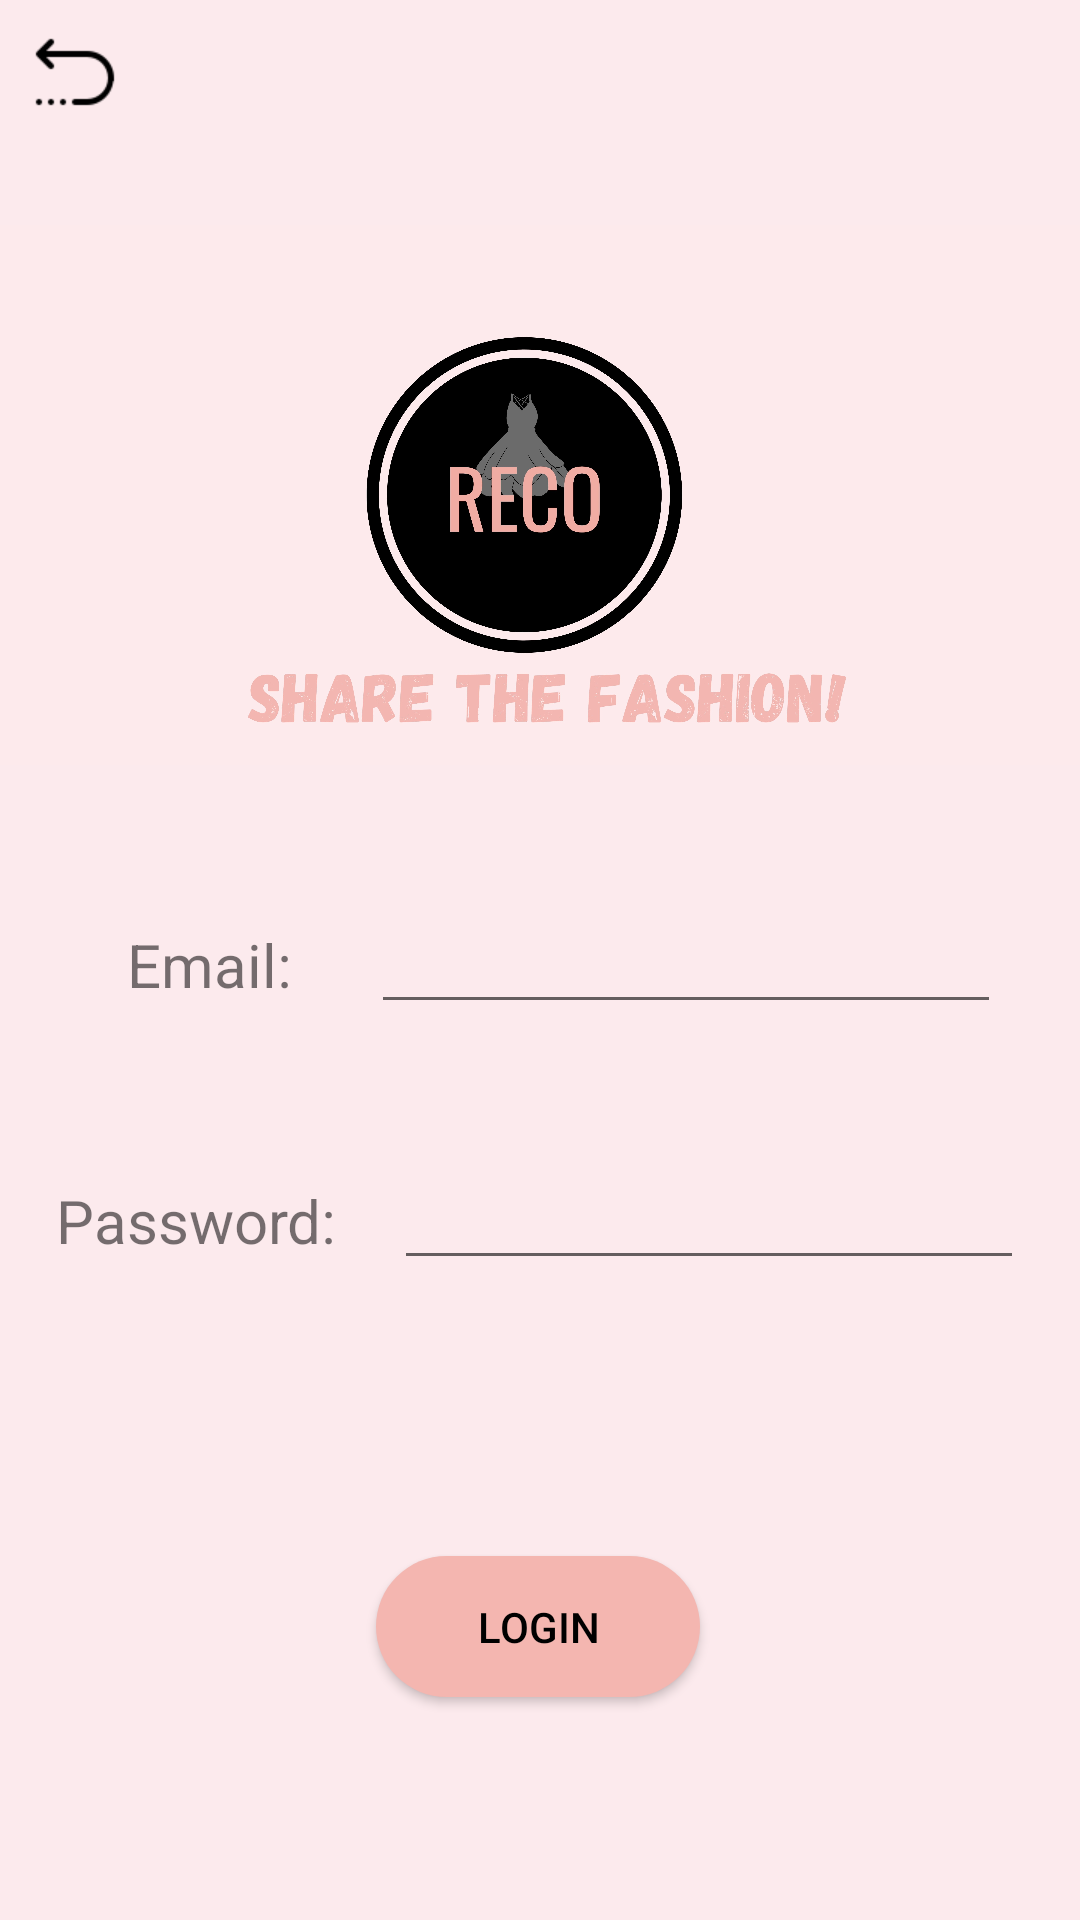

Icons on this 1080 x 1920 Android screen, each with its box as [left=x1, top=y1, right=x2, bottom=y2]:
return: [left=35, top=38, right=115, bottom=106]
